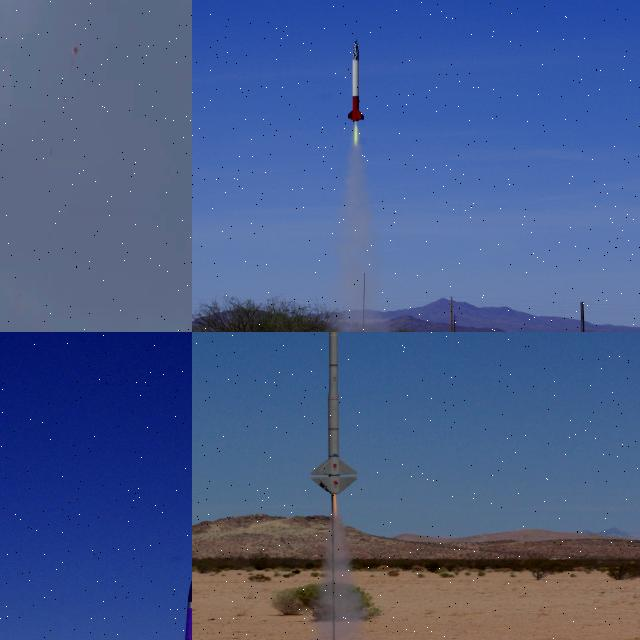Rocket: (309, 332, 358, 495), (166, 573, 192, 640), (347, 39, 365, 122), (50, 145, 53, 156)
